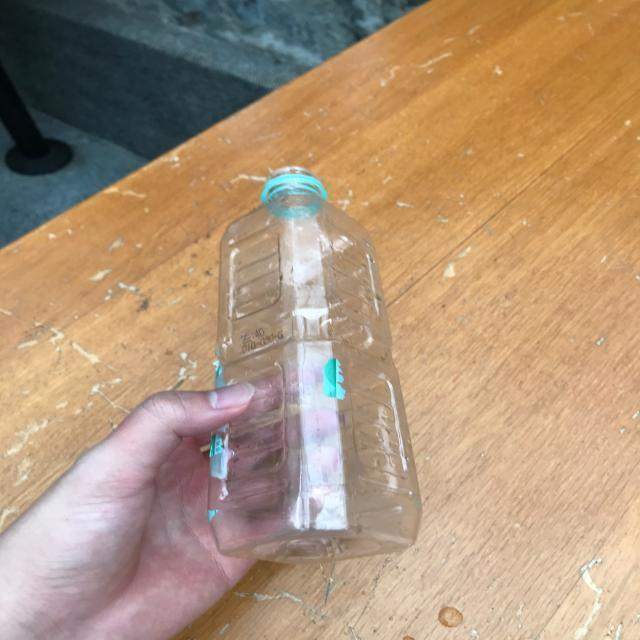plastic_bottle: (208, 166, 423, 564)
